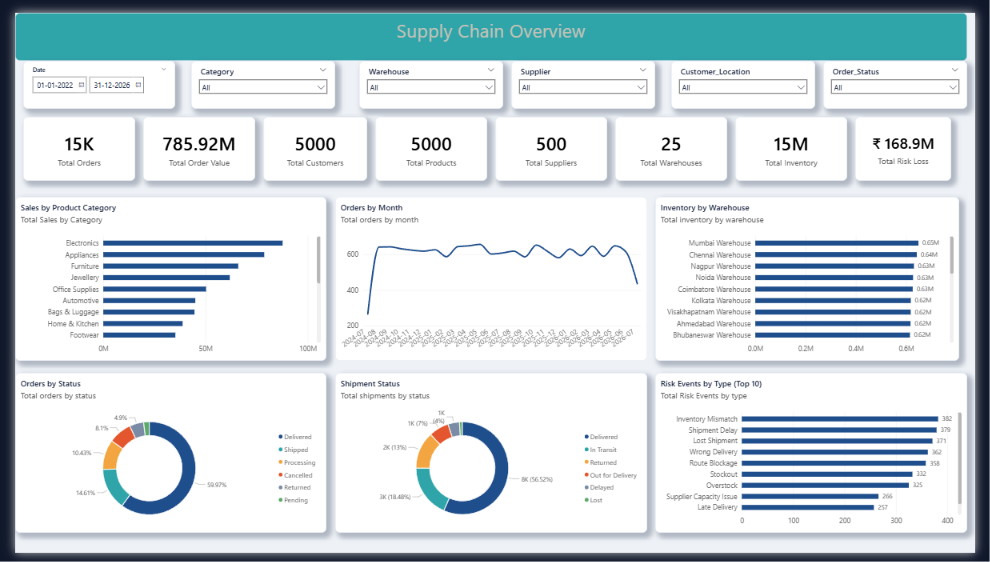

What the dashboard file says about the page in this screenshot:
{"tool":"powerbi","page":{"name":"Supply Chain Overview","canvas":[1920,1080],"ordinal":0},"visuals":[{"type":"textbox","box":[0,0,1904,96],"z":0},{"type":"slicer","fields":{"Values":["DateTable.Date"]},"box":[16,96,304,96],"z":1000},{"type":"slicer","fields":{"Values":["categories.category_name"]},"box":[352,96,288,96],"z":2000},{"type":"slicer","fields":{"Values":["suppliers.supplier_name"]},"box":[992,96,288,96],"z":3000},{"type":"slicer","fields":{"Values":["orders.order_status"]},"box":[1616,96,288,96],"z":4000},{"type":"slicer","fields":{"Values":["customers.location"]},"box":[1312,96,288,96],"z":5000},{"type":"slicer","fields":{"Values":["warehouses.warehouse_name"]},"box":[688,96,288,96],"z":6000},{"type":"card","fields":{"Values":["DateTable.Total Orders"]},"box":[16,208,224,128],"z":7000},{"type":"card","fields":{"Values":["DateTable.Total Suppliers"]},"box":[960,208,224,128],"z":8000},{"type":"card","fields":{"Values":["DateTable.Total Products"]},"box":[720,208,224,128],"z":9000},{"type":"card","fields":{"Values":["DateTable.Total Customers"]},"box":[496,208,208,128],"z":10000},{"type":"card","fields":{"Values":["DateTable.Total Order Value"]},"box":[256,208,224,128],"z":11000},{"type":"card","fields":{"Values":["DateTable.Total Inventory"]},"box":[1440,208,224,128],"z":12000},{"type":"card","fields":{"Values":["DateTable.Total Warehouses"]},"box":[1200,208,224,128],"z":13000},{"type":"card","fields":{"Values":["DateTable.Total Risk Loss"]},"box":[1680,208,192,128],"z":14000},{"type":"lineChart","title":"Orders by Month","fields":{"Category":["DateTable.Year-Month"],"Y":["DateTable.Total Orders"]},"box":[640,368,624,328],"z":15000},{"type":"clusteredBarChart","title":"Sales by Product Category","fields":{"Category":["categories.category_name","products.brand"],"Y":["DateTable.Category Sales"]},"box":[0,368,622,328],"z":16000},{"type":"donutChart","title":"Orders by Status","fields":{"Category":["orders.order_status"],"Y":["DateTable.Total Orders"]},"box":[0,720,622,320],"z":17000},{"type":"clusteredBarChart","title":"Inventory by Warehouse","fields":{"Category":["warehouses.warehouse_name"],"Y":["DateTable.Total Inventory"]},"box":[1280,368,608,328],"z":18000},{"type":"donutChart","title":"Shipment Status","fields":{"Category":["shipments.shipment_status"],"Y":["DateTable.Total Shipments"]},"box":[640,720,624,320],"z":19000},{"type":"clusteredBarChart","title":"Risk Events by Type (Top 10)","fields":{"Category":["risk_events.risk_type"],"Y":["DateTable.Total Risk Events"]},"box":[1280,720,624,320],"z":20000}]}

Visuals, with their boxes in screenshot pixels (x1, y1, x2, y2), scaled from the page's 1920x1080 canvas onto the 990x562 screenshot:
textbox: crop(0, 0, 982, 50)
slicer - DateTable.Date: crop(8, 50, 165, 100)
slicer - categories.category_name: crop(182, 50, 330, 100)
slicer - suppliers.supplier_name: crop(512, 50, 660, 100)
slicer - orders.order_status: crop(833, 50, 982, 100)
slicer - customers.location: crop(676, 50, 825, 100)
slicer - warehouses.warehouse_name: crop(355, 50, 503, 100)
card - DateTable.Total Orders: crop(8, 108, 124, 175)
card - DateTable.Total Suppliers: crop(495, 108, 610, 175)
card - DateTable.Total Products: crop(371, 108, 487, 175)
card - DateTable.Total Customers: crop(256, 108, 363, 175)
card - DateTable.Total Order Value: crop(132, 108, 248, 175)
card - DateTable.Total Inventory: crop(742, 108, 858, 175)
card - DateTable.Total Warehouses: crop(619, 108, 734, 175)
card - DateTable.Total Risk Loss: crop(866, 108, 965, 175)
"Orders by Month" lineChart: crop(330, 191, 652, 362)
"Sales by Product Category" clusteredBarChart: crop(0, 191, 321, 362)
"Orders by Status" donutChart: crop(0, 375, 321, 541)
"Inventory by Warehouse" clusteredBarChart: crop(660, 191, 974, 362)
"Shipment Status" donutChart: crop(330, 375, 652, 541)
"Risk Events by Type (Top 10)" clusteredBarChart: crop(660, 375, 982, 541)
